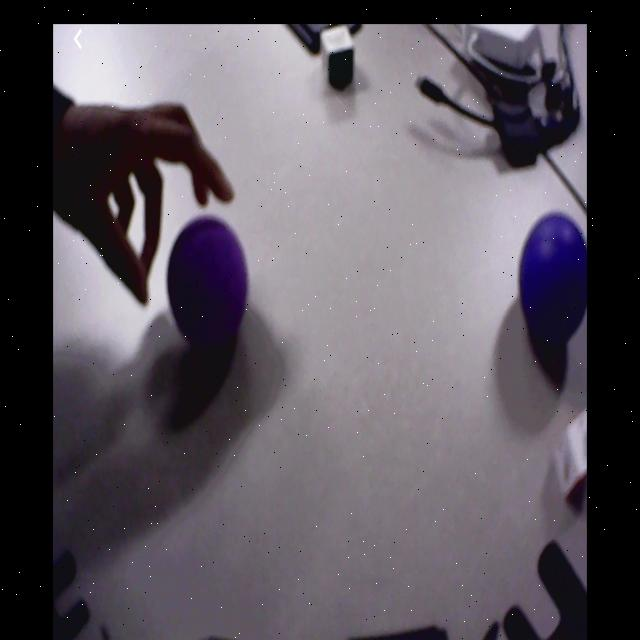ball: (169, 221, 249, 338), (519, 215, 589, 338)
